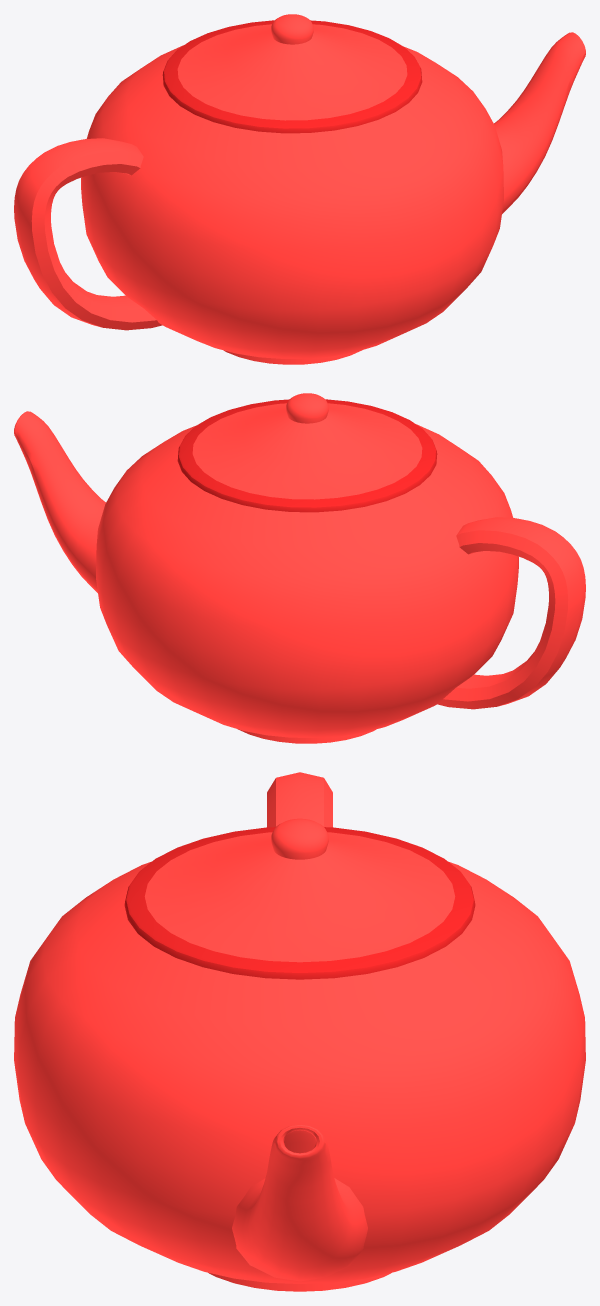
The model's file is teapot.gltf.
3 views of the same model, one above another, from view 1: azimuth 30°, elevation 25°; view 2: azimuth 150°, elevation 25°; view 3: azimuth 270°, elevation 25° (orthographic). The views are drawn at different scales.
Parts seen in each view (by area): view 1: Sphere.501; view 2: Sphere.501; view 3: Sphere.501.
Boxes of the visible parts, x1=… form: Sphere.501: x1=14, y1=14, x2=585, y2=364; Sphere.501: x1=14, y1=393, x2=585, y2=743; Sphere.501: x1=14, y1=772, x2=585, y2=1291.
Bounding box in the file's own units: 2.39 × 1.27 × 1.57.
Materials: 1 (1 with a texture image).
